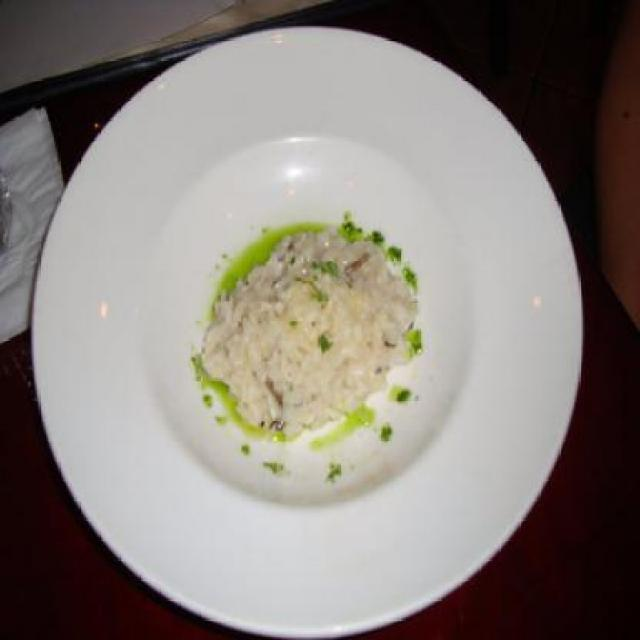Risotto: (202, 216, 420, 467)
